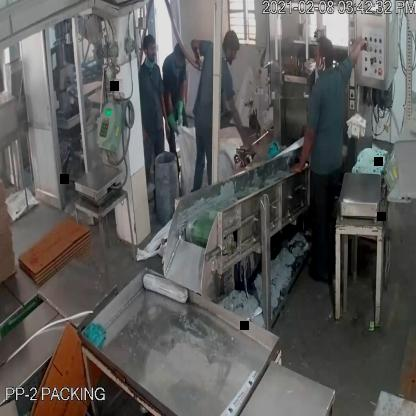glove: (166, 93, 188, 136)
no_glove: (221, 86, 254, 152), (290, 110, 317, 172), (344, 30, 366, 72)
